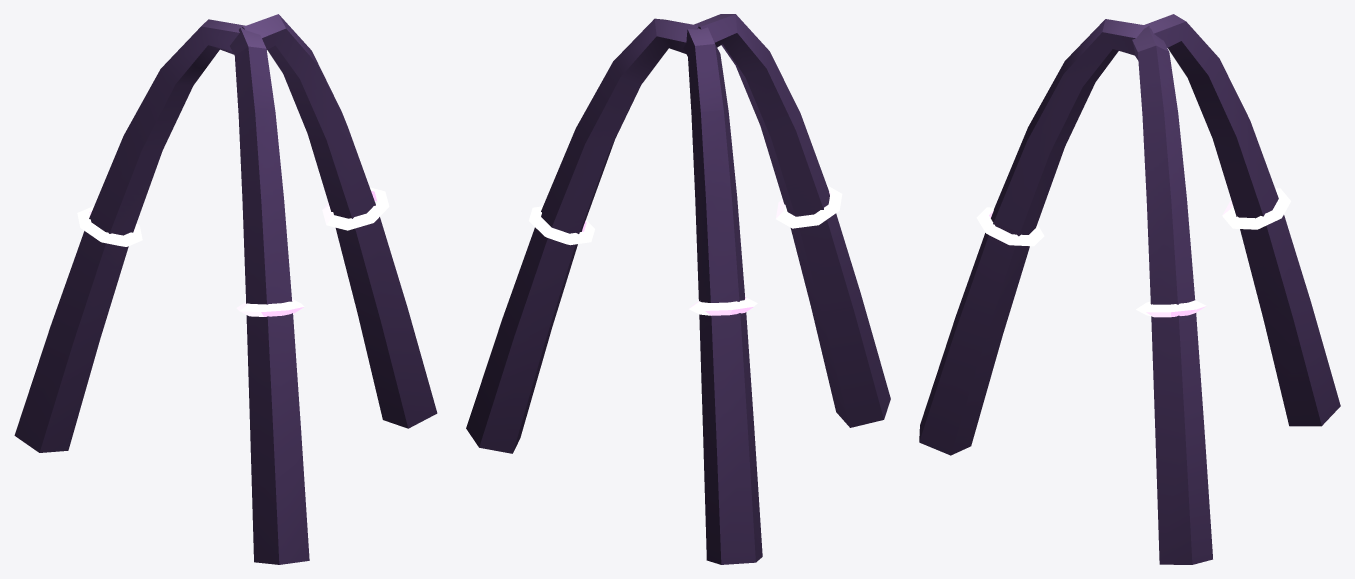
File: hive_spire_c.glb
The picture shows the model from 3 angles, left to right: view 1: azimuth 30°, elevation 25°; view 2: azimuth 150°, elevation 25°; view 3: azimuth 270°, elevation 25°; orthographic projection.
Visible parts, largest first — view 1: hive_spire_c; view 2: hive_spire_c; view 3: hive_spire_c.
Boxes of the visible parts, bbox=[...] form: hive_spire_c: bbox=[14, 14, 437, 564]; hive_spire_c: bbox=[466, 14, 890, 564]; hive_spire_c: bbox=[919, 14, 1340, 564].
Bounding box in the file's own units: 1.66 × 2.03 × 1.72.
